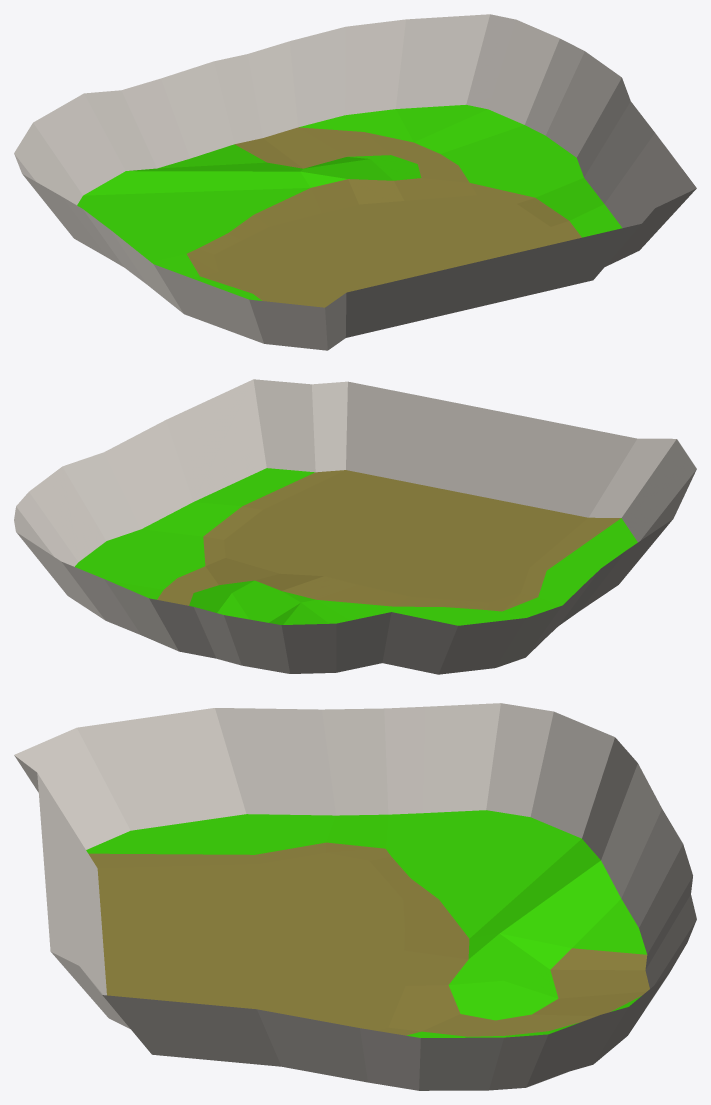
The model's file is Level 1 Ground.fbx.
3 renders of one model, top to bottom at view 1: azimuth 30°, elevation 25°; view 2: azimuth 150°, elevation 25°; view 3: azimuth 270°, elevation 25°, orthographic. The views are drawn at different scales.
Visible parts, largest first — view 1: Plane; view 2: Plane; view 3: Plane.
Part boxes in pixels (x1,y1,x2,y2): Plane: [14, 14, 696, 350]; Plane: [14, 379, 696, 674]; Plane: [14, 703, 696, 1090].
Size of the model in its own units: 1815 by 288 by 1655.
